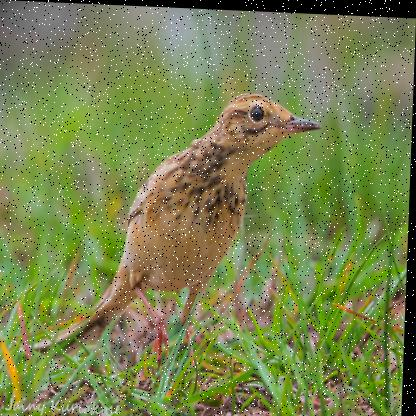Burung: (27, 83, 321, 371)
